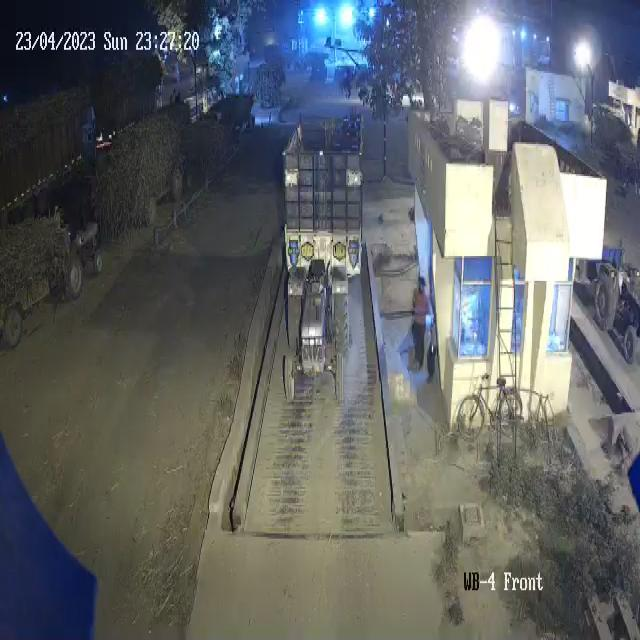Tratores - v5 YOLO V8L 2024-11-13: (282, 253, 356, 412), (57, 210, 108, 298)
